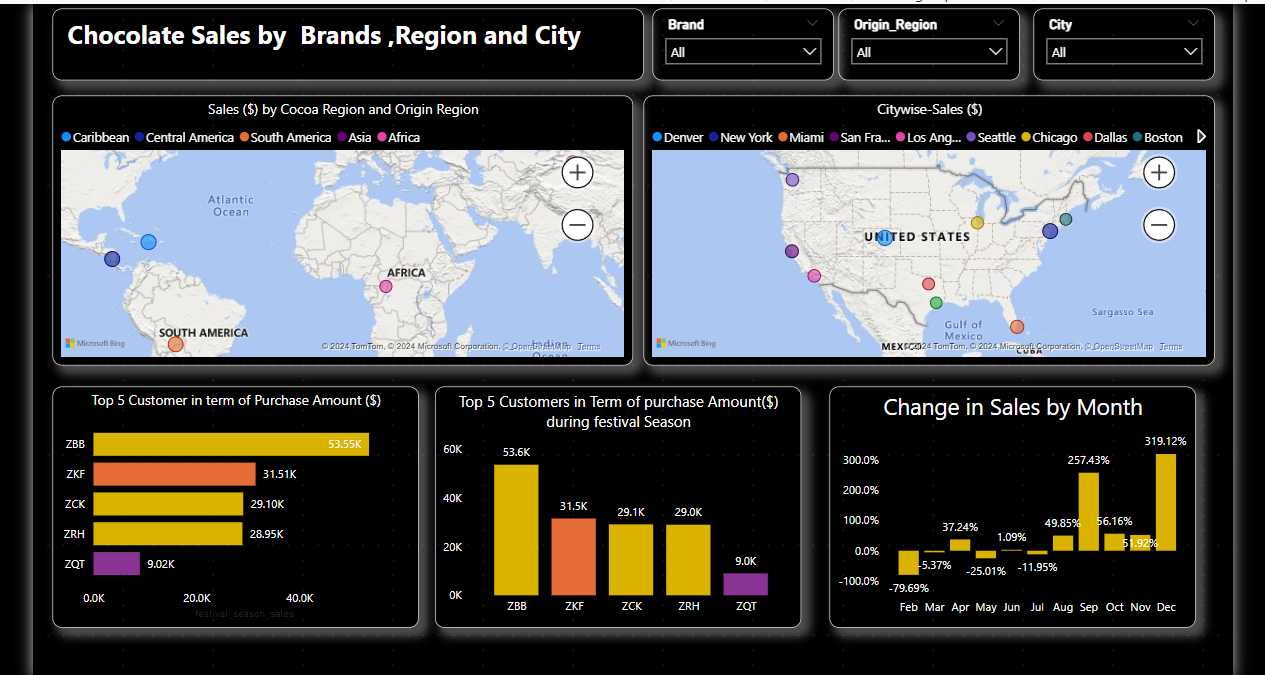

Layout of this report page (visuals, bound fields, positions):
{"tool":"powerbi","page":{"name":" Brand,region,city","canvas":[1280,720],"ordinal":1},"visuals":[{"type":"textbox","box":[20.8,4.8,630.4,76.8],"z":0},{"type":"clusteredColumnChart","title":"Top 5 Customers in Term of purchase Amount($) during festival Season","fields":{"Category":["chocolate_sales customer_dimension.Customer_Name"],"Y":["# Measures.festival_season_sales"]},"box":[429.6,408.4,390.5,257.1],"z":1000},{"type":"clusteredColumnChart","title":"Change in Sales by Month","fields":{"Y":["# Measures.Change_in_sales"],"Category":["Calendar_Dimension.Month"]},"box":[849.6,408,390.4,257.6],"z":2000},{"type":"clusteredBarChart","title":"Top 5 Customer in term of Purchase Amount ($)","fields":{"Category":["chocolate_sales customer_dimension.Customer_Name"],"Y":["# Measures.festival_season_sales"]},"box":[21.2,408.4,390.5,257.1],"z":3000},{"type":"map","title":"Sales ($) by Cocoa Region and Origin Region","fields":{"Category":["chocolate_sales product_dimension.Origin_Region"],"Size":["# Measures.Total_sales"],"Series":["chocolate_sales product_dimension.Origin_Region"]},"box":[20.8,97.6,619.2,288],"z":3001},{"type":"map","title":"Citywise-Sales ($)","fields":{"Size":["# Measures.Total_sales"],"Category":["chocolate_sales location_dimension.City"],"Series":["chocolate_sales location_dimension.City"]},"box":[651.2,97.6,609.6,288],"z":3002},{"type":"slicer","fields":{"Values":["chocolate_sales location_dimension.City"]},"box":[1067.2,4.8,193.6,76.8],"z":3003},{"type":"slicer","fields":{"Values":["chocolate_sales product_dimension.Origin_Region"]},"box":[859.2,4.8,193.6,76.8],"z":3004},{"type":"slicer","fields":{"Values":["chocolate_sales product_dimension.Brand"]},"box":[660.8,4.8,193.6,76.8],"z":3005}]}

Visuals, with their boxes on the page's 1280x720 design canvas (x1, y1, x2, y2). These are canvas units, not pixel positions in the 1265x675 screenshot, which may show the page scaled, cropped or inside an application window:
textbox: 21:5:651:82
"Top 5 Customers in Term of purchase Amount($) during festival Season" clusteredColumnChart: 430:408:820:666
"Change in Sales by Month" clusteredColumnChart: 850:408:1240:666
"Top 5 Customer in term of Purchase Amount ($)" clusteredBarChart: 21:408:412:666
"Sales ($) by Cocoa Region and Origin Region" map: 21:98:640:386
"Citywise-Sales ($)" map: 651:98:1261:386
slicer - chocolate_sales location_dimension.City: 1067:5:1261:82
slicer - chocolate_sales product_dimension.Origin_Region: 859:5:1053:82
slicer - chocolate_sales product_dimension.Brand: 661:5:854:82
